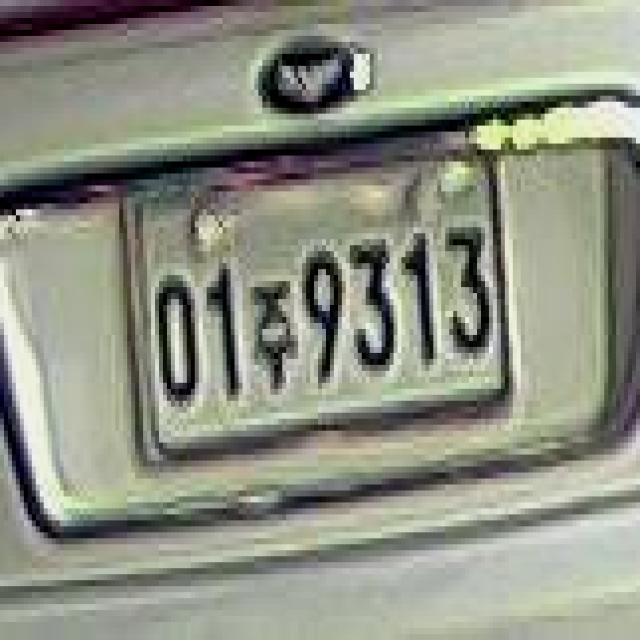illegal_plate: (126, 154, 515, 460)
